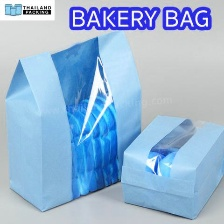snack: (0, 22, 148, 217), (116, 109, 223, 224)
